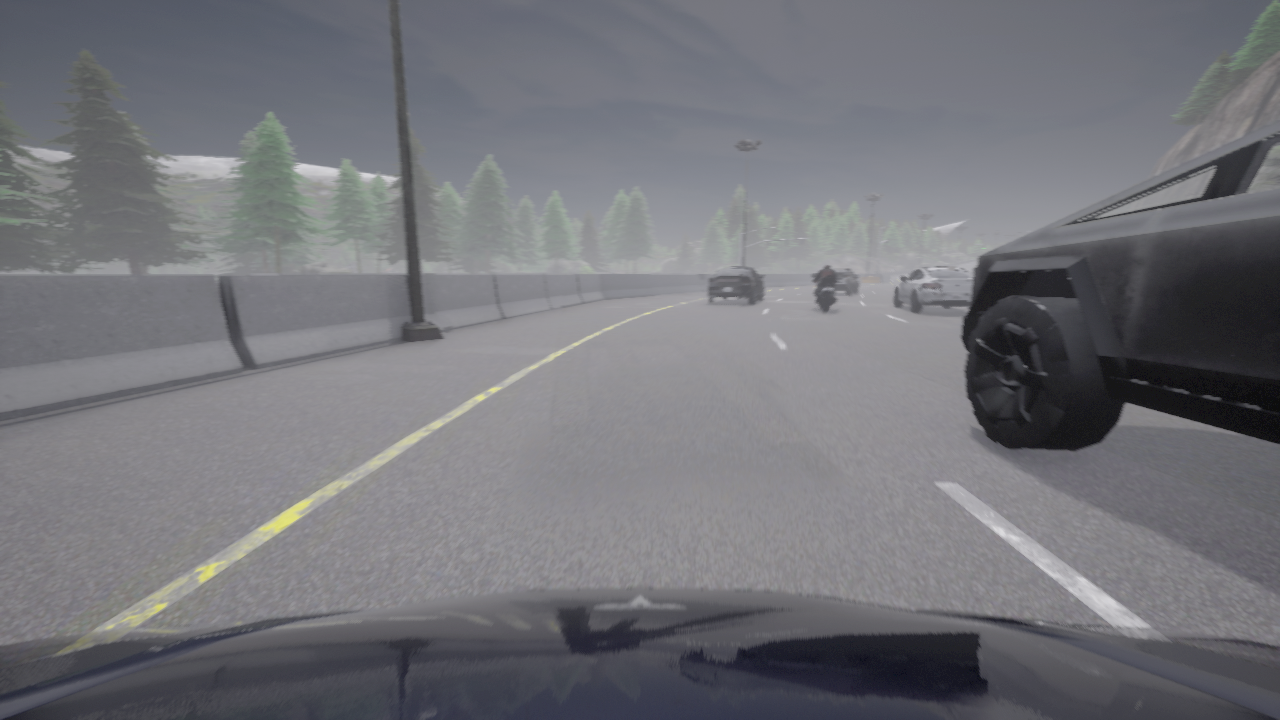cyclist: (0, 588, 1279, 719), (960, 119, 1279, 451), (894, 266, 971, 311), (707, 266, 763, 303), (812, 274, 837, 311), (829, 268, 858, 294)
